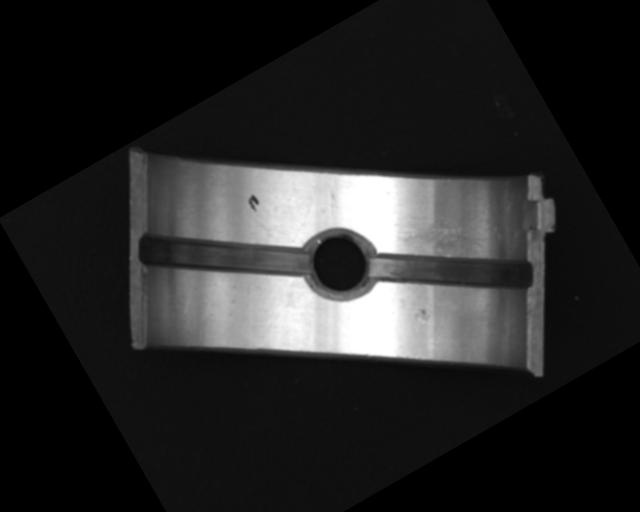blot: (244, 192, 263, 214)
bruise: (410, 304, 433, 328)
gap: (132, 171, 312, 340), (366, 192, 540, 352)
hole: (295, 217, 387, 312)
nick: (312, 172, 351, 216)
scratch: (392, 193, 492, 287)
